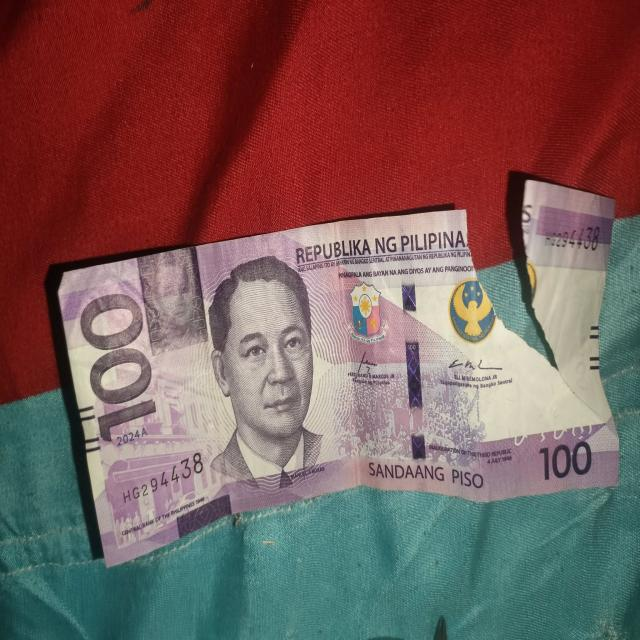broken: (49, 172, 626, 579)
torn: (434, 164, 582, 404)
